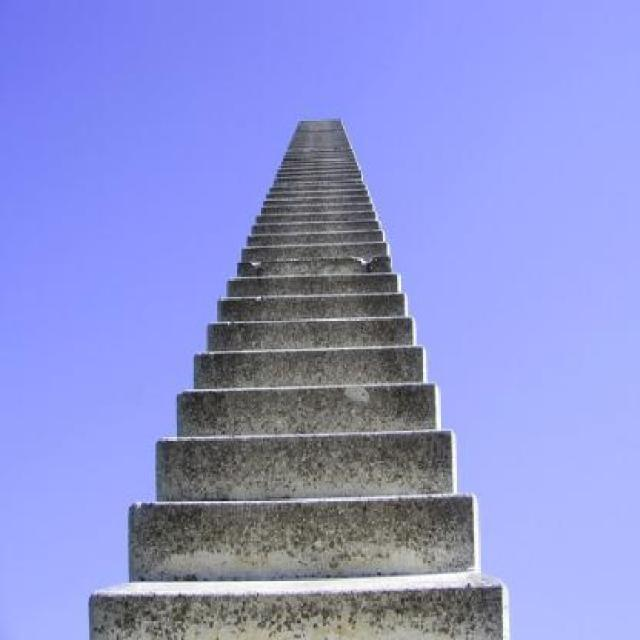stair: (75, 100, 511, 640)
